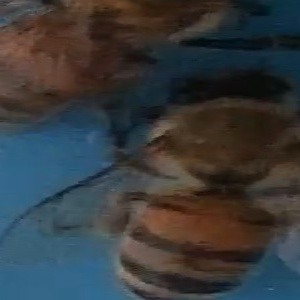bee: (130, 68, 293, 298)
